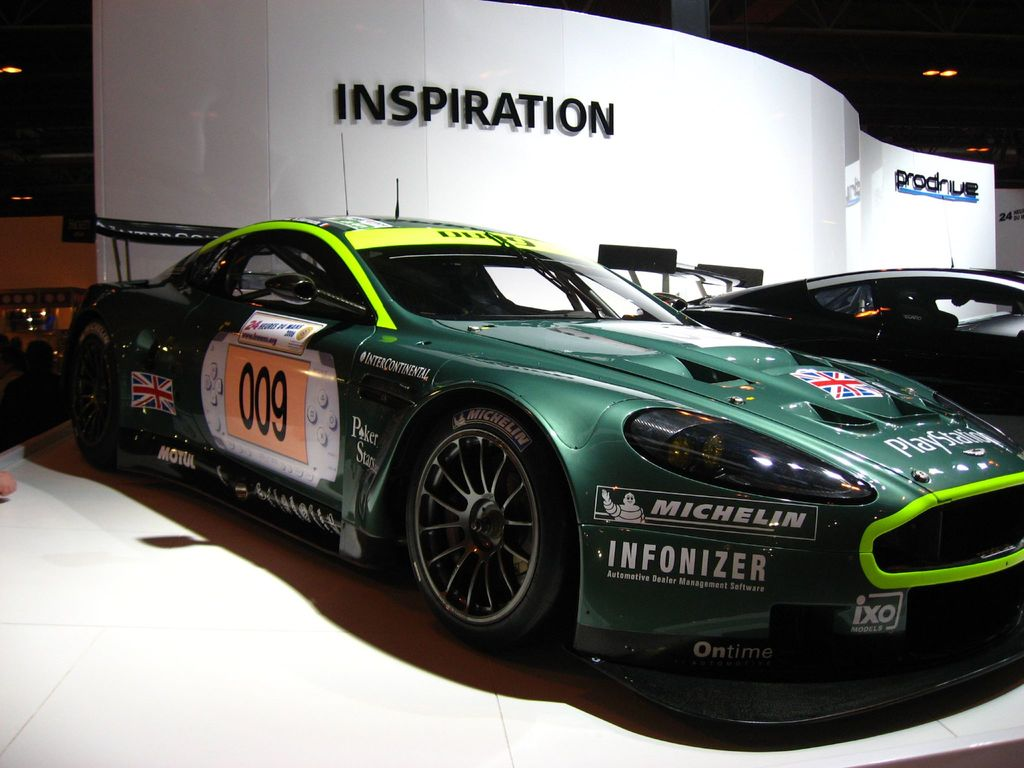person: (0, 338, 66, 450)
